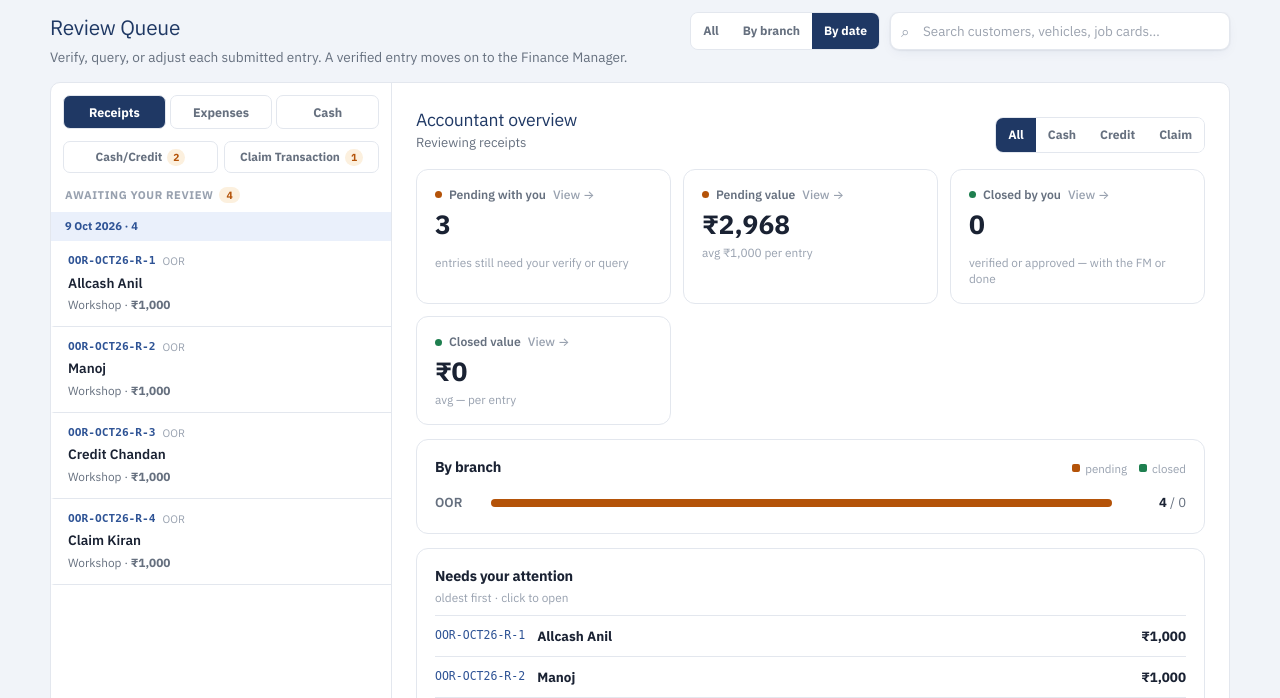
Accountant Credit bucket (rev 69) › holds only receipts whose status is Credit — a part-cash/part-bank Received receipt is not in it
Click the button "Cash/Credit 2". click: (140, 157)
box: [63,141,218,173]
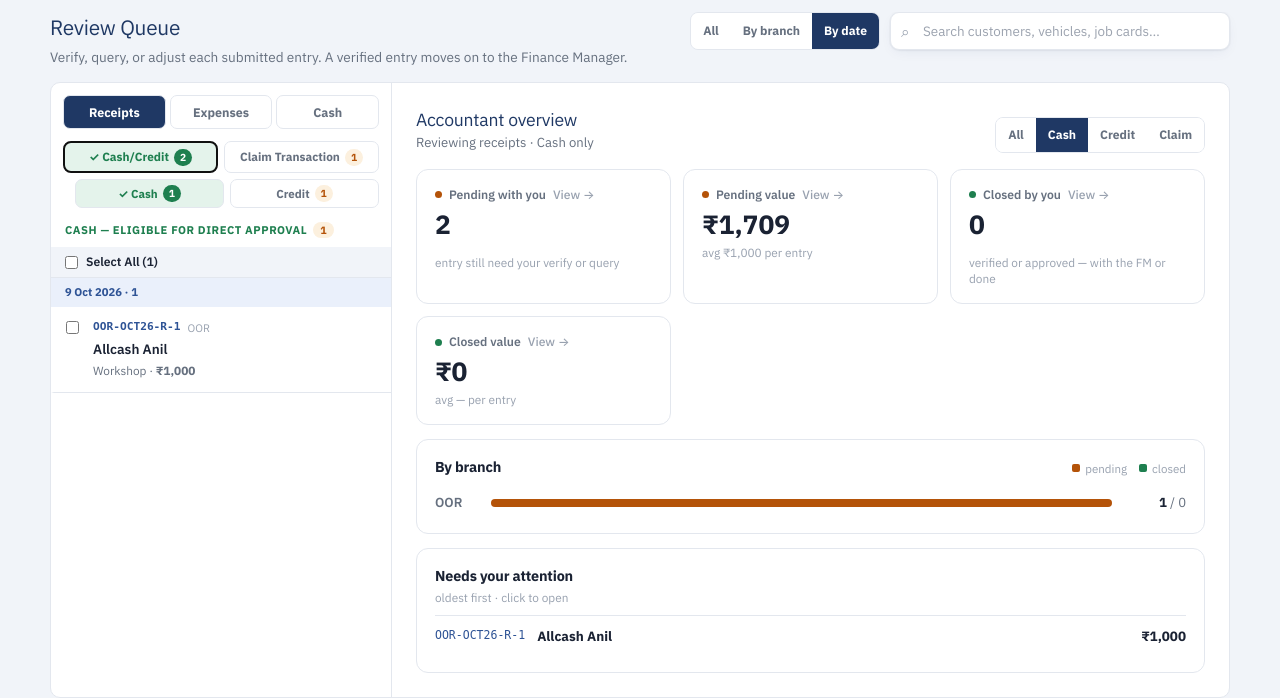
Click the button titled "leave this list once the status is changed". click: (304, 194)
box: [230,179,379,208]
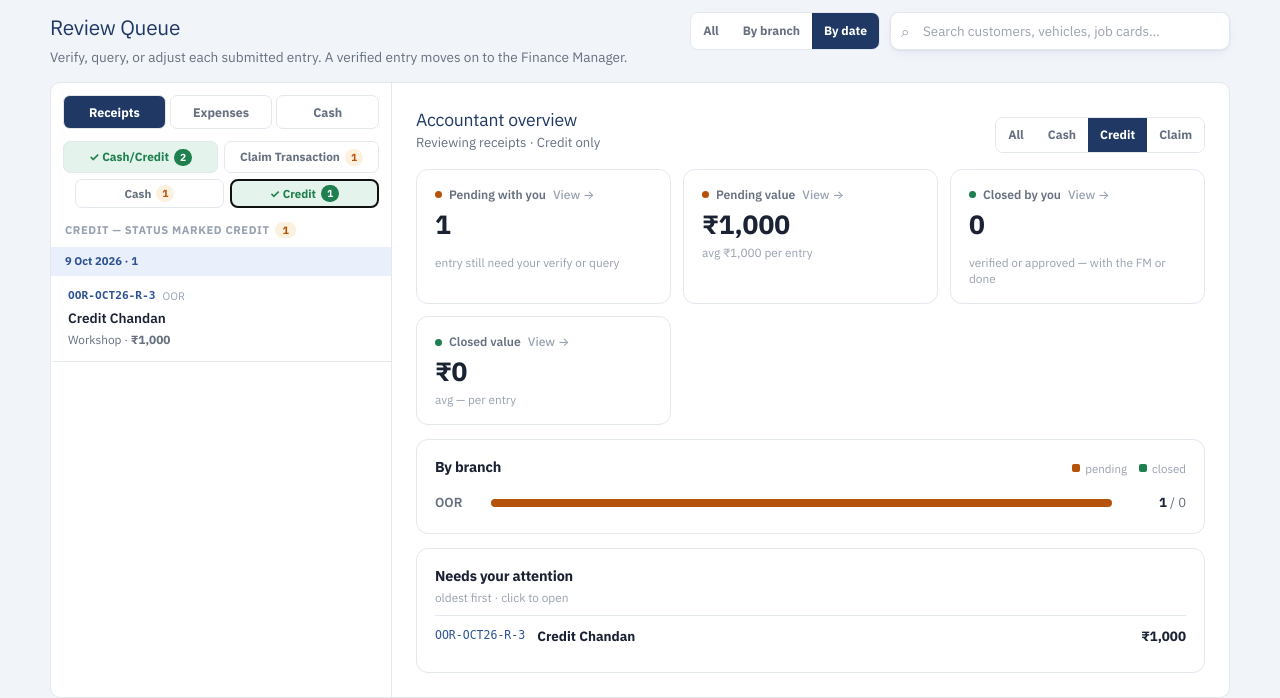
Expected: the text "Credit Chandan" below "9 Oct 2026" is shown, [68,309,166,327]
Expected: no buttons "Allcash Anil" are shown
